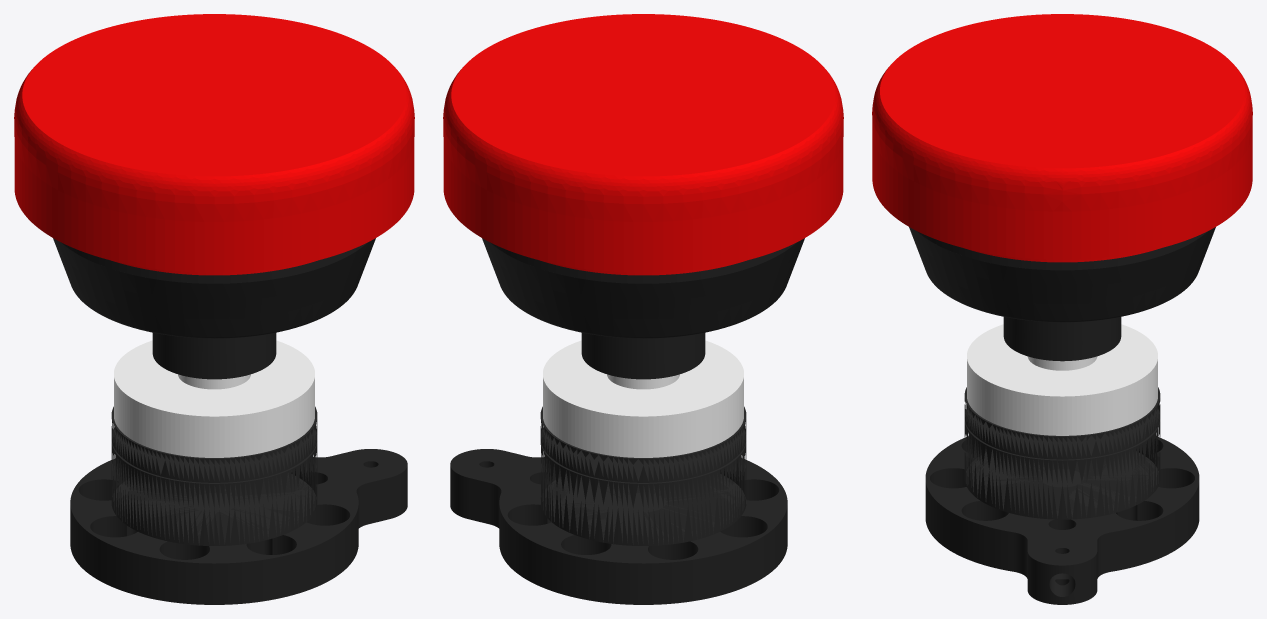
Rendered from sensor_tool_iiwa.dae.
3 views of the same model, side by side, from view 1: azimuth 30°, elevation 25°; view 2: azimuth 150°, elevation 25°; view 3: azimuth 270°, elevation 25° (orthographic). The views are drawn at different scales.
Visible parts, largest first — view 1: node0, node4, node1, node3, node2; view 2: node0, node4, node1, node2, node3; view 3: node0, node4, node1, node2, node3.
Part boxes in pixels (bbox=[...]): node0: bbox=[14, 14, 414, 275]; node4: bbox=[70, 449, 407, 604]; node1: bbox=[53, 238, 375, 379]; node3: bbox=[111, 406, 317, 545]; node2: bbox=[114, 340, 314, 457]; node0: bbox=[443, 14, 843, 275]; node4: bbox=[450, 449, 787, 604]; node1: bbox=[482, 238, 804, 379]; node2: bbox=[543, 340, 743, 457]; node3: bbox=[540, 406, 746, 545]; node0: bbox=[872, 14, 1252, 262]; node4: bbox=[925, 436, 1199, 604]; node1: bbox=[909, 227, 1215, 361]; node2: bbox=[967, 324, 1157, 435]; node3: bbox=[964, 387, 1160, 519].
Bounding box in the file's own units: 0.0912 × 0.0876 × 0.1112.
